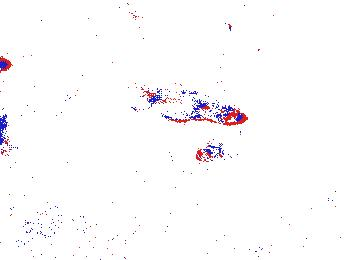X-ray fish: (82, 207, 141, 236)
red belly glassfish: (195, 144, 226, 164)
redtail glassfish: (137, 85, 248, 128), (72, 1, 146, 22)
